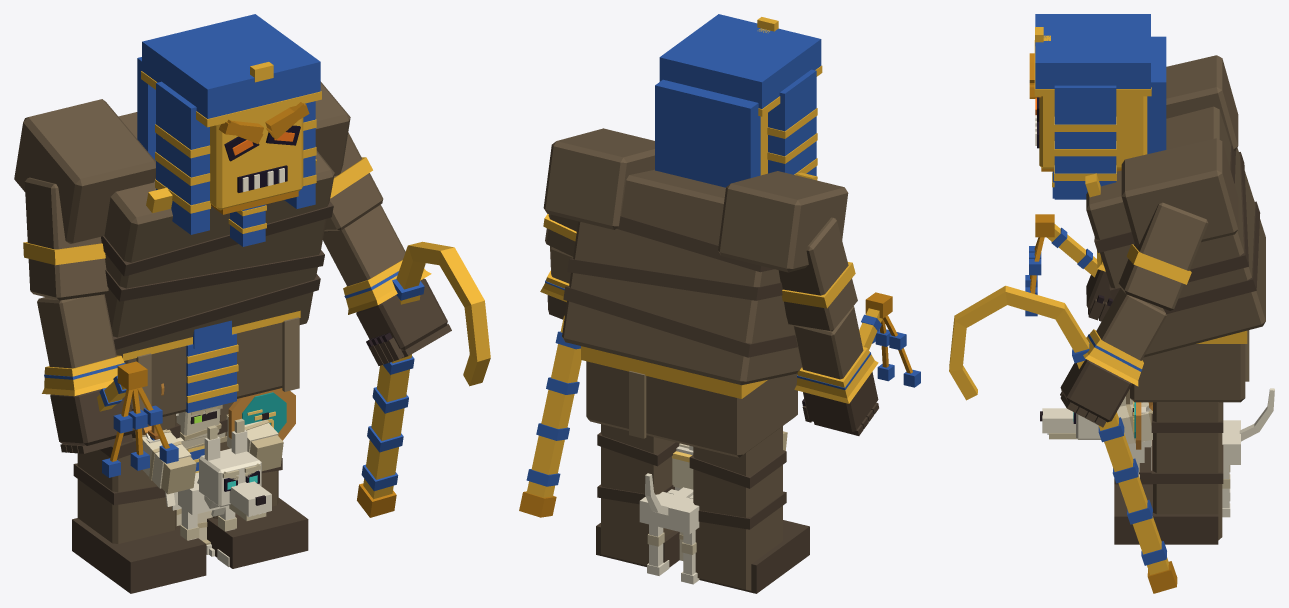
Rendered from w4_enemies.fbx.
3 renders of one model, left to right at view 1: azimuth 30°, elevation 25°; view 2: azimuth 150°, elevation 25°; view 3: azimuth 270°, elevation 25°, orthographic. The views are drawn at different scales.
Visible parts, largest first — view 1: SandPharaoh.Torso, SandPharaoh.Headdress, SandPharaoh.TorsoWraps, SandPharaoh.Crook, SandPharaoh.FootRight, SandPharaoh.RightLeg, SandPharaoh.RightArm, SandPharaoh.Head, SandPharaoh.RightLowerArm, SandPharaoh.FootLeft, SandPharaoh.LeftLowerArm, SandPharaoh.LeftFist (+34 smaller); view 2: SandPharaoh.Torso, SandPharaoh.Headdress, SandPharaoh.RightLeg, SandPharaoh.TorsoWraps, SandPharaoh.LeftLeg, SandPharaoh.RightArm, SandPharaoh.Crook, SandPharaoh.RightLowerArm, SandPharaoh.Belt, SandPharaoh.FootRight, SandPharaoh.WrapsRight, SandPharaoh.RightFist (+14 smaller); view 3: SandPharaoh.Torso, SandPharaoh.Headdress, SandPharaoh.Crook, SandPharaoh.LeftLeg, SandPharaoh.LeftArm, SandPharaoh.TorsoWraps, SandPharaoh.Head, SandPharaoh.FootLeft, SandPharaoh.LeftLowerArm, SandPharaoh.LeftFist, SandPharaoh.HeaddressGold, SandPharaoh.WrapsLeft (+13 smaller).
Boxes of the visible parts, x1=… form: SandPharaoh.Torso: x1=14, y1=81, x2=350, y2=416; SandPharaoh.Headdress: x1=137, y1=14, x2=320, y2=234; SandPharaoh.TorsoWraps: x1=101, y1=201, x2=333, y2=349; SandPharaoh.Crook: x1=363, y1=241, x2=490, y2=499; SandPharaoh.FootRight: x1=72, y1=518, x2=206, y2=593; SandPharaoh.RightLeg: x1=77, y1=414, x2=176, y2=543; SandPharaoh.RightArm: x1=24, y1=177, x2=108, y2=300; SandPharaoh.Head: x1=210, y1=107, x2=303, y2=210; SandPharaoh.RightLowerArm: x1=37, y1=294, x2=116, y2=368; SandPharaoh.FootLeft: x1=207, y1=498, x2=308, y2=568; SandPharaoh.LeftLowerArm: x1=323, y1=204, x2=405, y2=286; SandPharaoh.LeftFist: x1=356, y1=278, x2=447, y2=350; SandPharaoh.Torso: x1=543, y1=128, x2=848, y2=457; SandPharaoh.Headdress: x1=655, y1=14, x2=821, y2=187; SandPharaoh.RightLeg: x1=693, y1=426, x2=782, y2=590; SandPharaoh.TorsoWraps: x1=563, y1=216, x2=797, y2=357; SandPharaoh.LeftLeg: x1=601, y1=424, x2=674, y2=565; SandPharaoh.RightArm: x1=778, y1=217, x2=857, y2=331; SandPharaoh.Crook: x1=526, y1=315, x2=581, y2=497; SandPharaoh.RightLowerArm: x1=793, y1=306, x2=863, y2=379; SandPharaoh.Belt: x1=581, y1=346, x2=767, y2=398; SandPharaoh.FootRight: x1=699, y1=520, x2=809, y2=593; SandPharaoh.WrapsRight: x1=689, y1=450, x2=786, y2=529; SandPharaoh.RightFist: x1=803, y1=372, x2=878, y2=431; SandPharaoh.Torso: x1=1086, y1=55, x2=1265, y2=402; SandPharaoh.Headdress: x1=1035, y1=14, x2=1166, y2=199; SandPharaoh.Crook: x1=949, y1=285, x2=1168, y2=574; SandPharaoh.LeftLeg: x1=1153, y1=402, x2=1222, y2=540; SandPharaoh.LeftArm: x1=1118, y1=202, x2=1208, y2=310; SandPharaoh.TorsoWraps: x1=1094, y1=145, x2=1260, y2=314; SandPharaoh.Head: x1=1039, y1=96, x2=1147, y2=168; SandPharaoh.FootLeft: x1=1114, y1=484, x2=1218, y2=544; SandPharaoh.LeftLowerArm: x1=1096, y1=288, x2=1166, y2=360; SandPharaoh.LeftFist: x1=1060, y1=359, x2=1131, y2=422; SandPharaoh.HeaddressGold: x1=1034, y1=40, x2=1151, y2=180; SandPharaoh.WrapsLeft: x1=1151, y1=402, x2=1223, y2=483.
Bounding box in the file's own units: 12.63 × 17.83 × 10.99.
